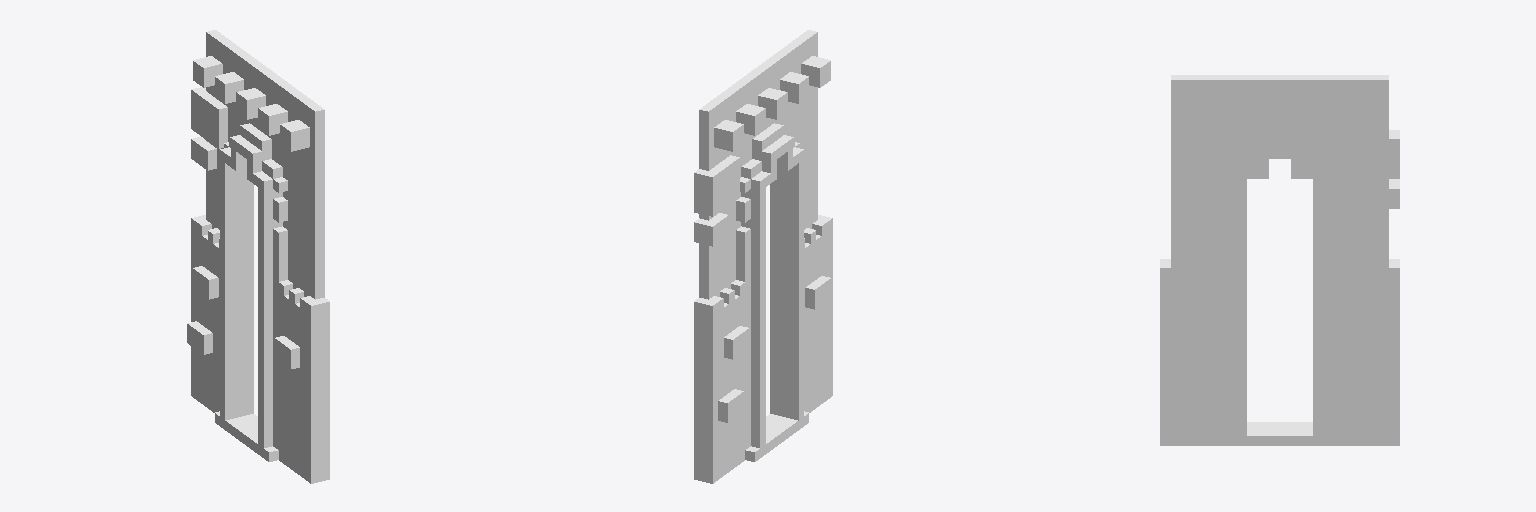
The model's file is SmallBuilding03-3.obj.
3 views of the same model, side by side, from view 1: azimuth 30°, elevation 25°; view 2: azimuth 150°, elevation 25°; view 3: azimuth 270°, elevation 25° (orthographic).
Parts seen in each view (by area): view 1: object 1; view 2: object 1; view 3: object 1.
Part boxes in pixels (x1,y1,x2,y2): object 1: (187,30,329,483); object 1: (694,30,832,483); object 1: (1160,75,1399,445).
Size of the model in its own units: 0.3 by 3.7 by 2.2.